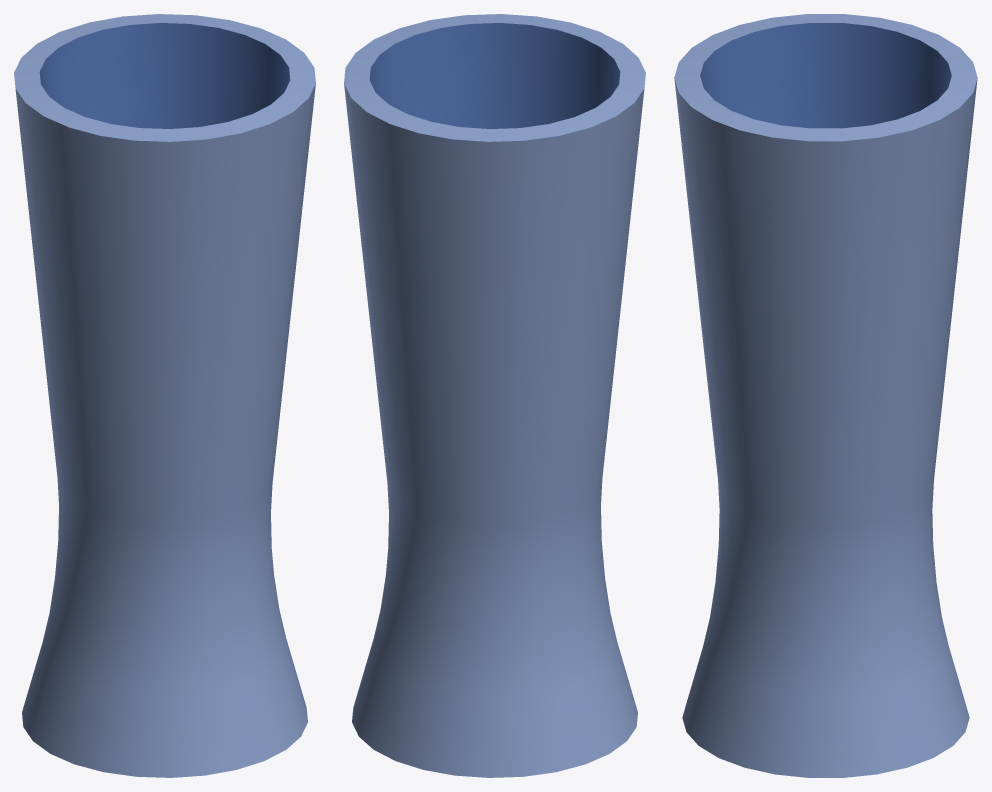
File: Beer Cup C.fbx
3 views of the same model, side by side, from view 1: azimuth 30°, elevation 25°; view 2: azimuth 150°, elevation 25°; view 3: azimuth 270°, elevation 25° (orthographic).
Parts seen in each view (by area): view 1: Beer Cup C; view 2: Beer Cup C; view 3: Beer Cup C.
Boxes of the visible parts, bbox=[...] form: Beer Cup C: bbox=[14, 14, 315, 777]; Beer Cup C: bbox=[344, 14, 645, 777]; Beer Cup C: bbox=[674, 14, 977, 777].
Size of the model in its own units: 0.2132 by 0.5016 by 0.2148.
